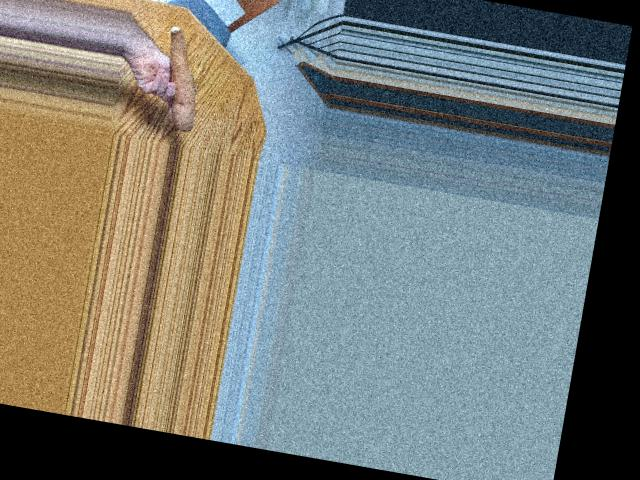sweet_potato: (149, 23, 213, 132)
